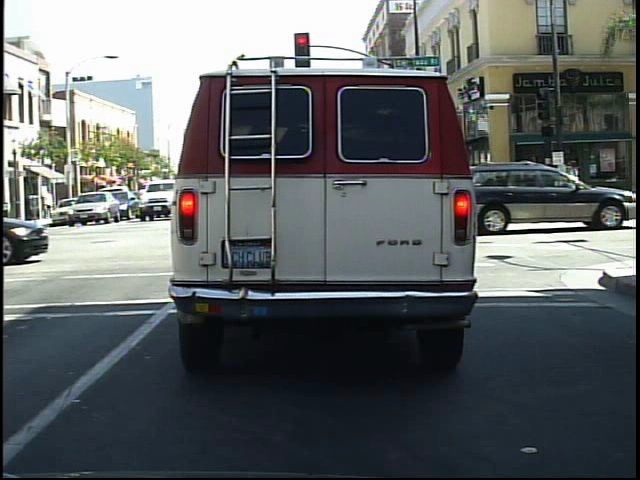person: (550, 146, 573, 209), (537, 154, 561, 212), (513, 157, 538, 212), (568, 157, 588, 207)
